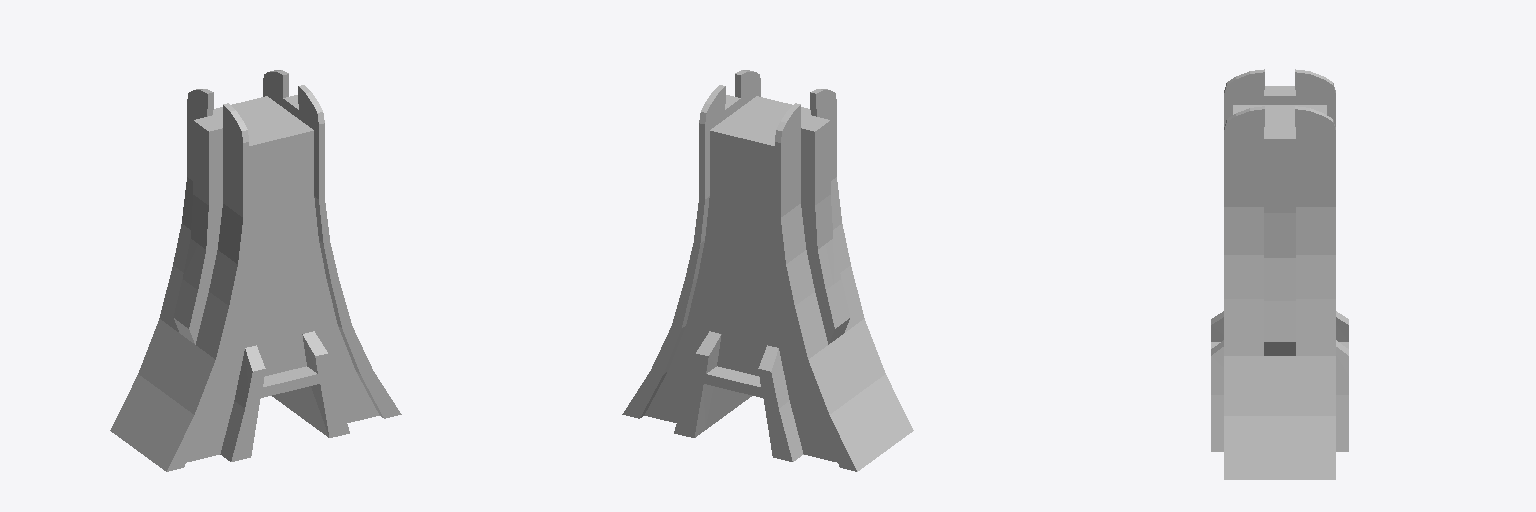
File: Building_5.obj
3 views of the same model, side by side, from view 1: azimuth 30°, elevation 25°; view 2: azimuth 150°, elevation 25°; view 3: azimuth 270°, elevation 25° (orthographic).
Visible parts, largest first — view 1: building_5; view 2: building_5; view 3: building_5.
Part boxes in pixels (x1,y1,x2,y2): building_5: (110,70,401,471); building_5: (622,70,913,471); building_5: (1211,69,1348,479).
Size of the model in its own units: 26.34 by 35.71 by 13.36.